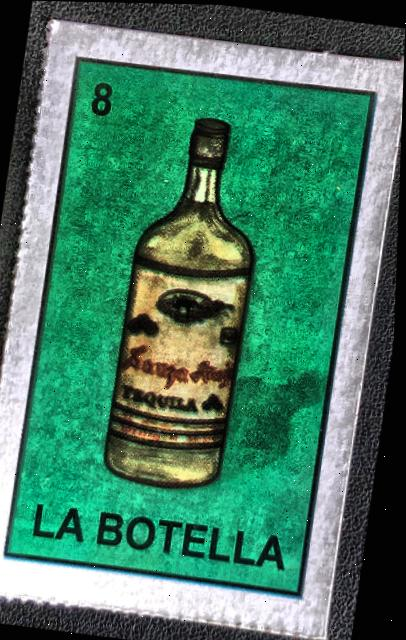La Botella: (0, 24, 403, 628)
